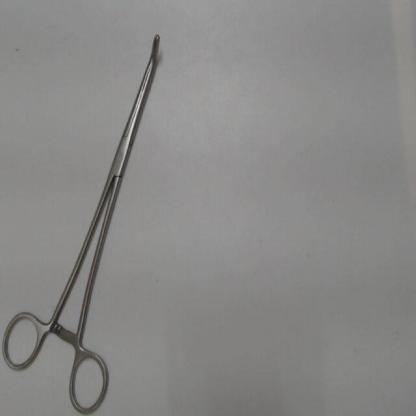Lahey Forceps: (1, 26, 163, 413)
